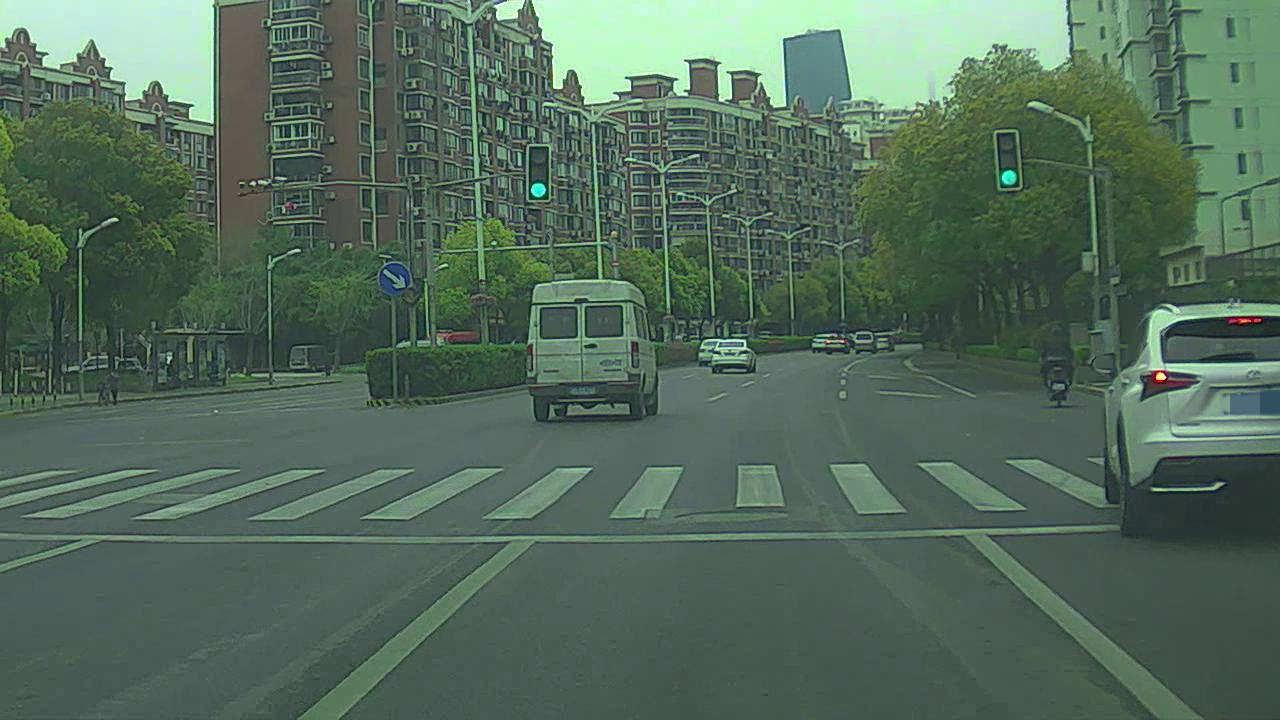traffic_light: (993, 129, 1026, 192), (523, 143, 555, 204)
